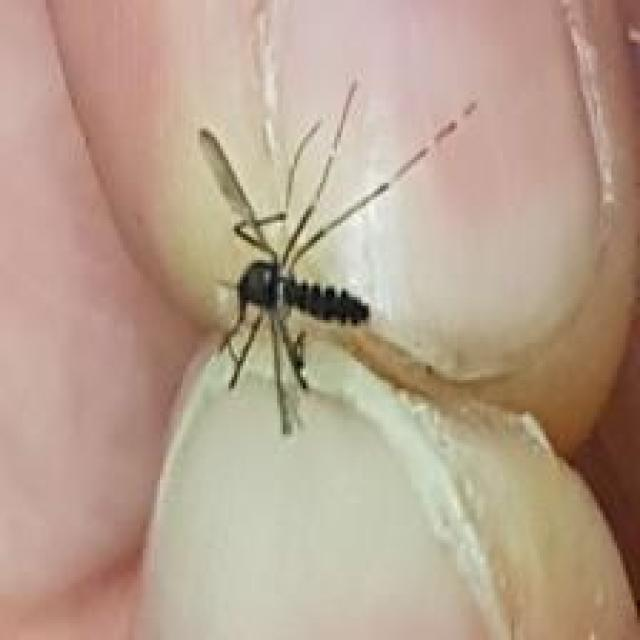Aedes albopictus: (194, 73, 480, 436)
